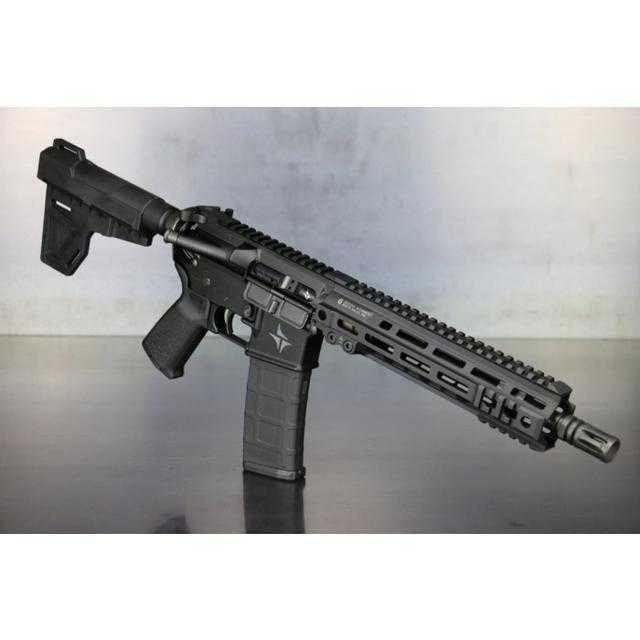weapon: (23, 119, 632, 558)
